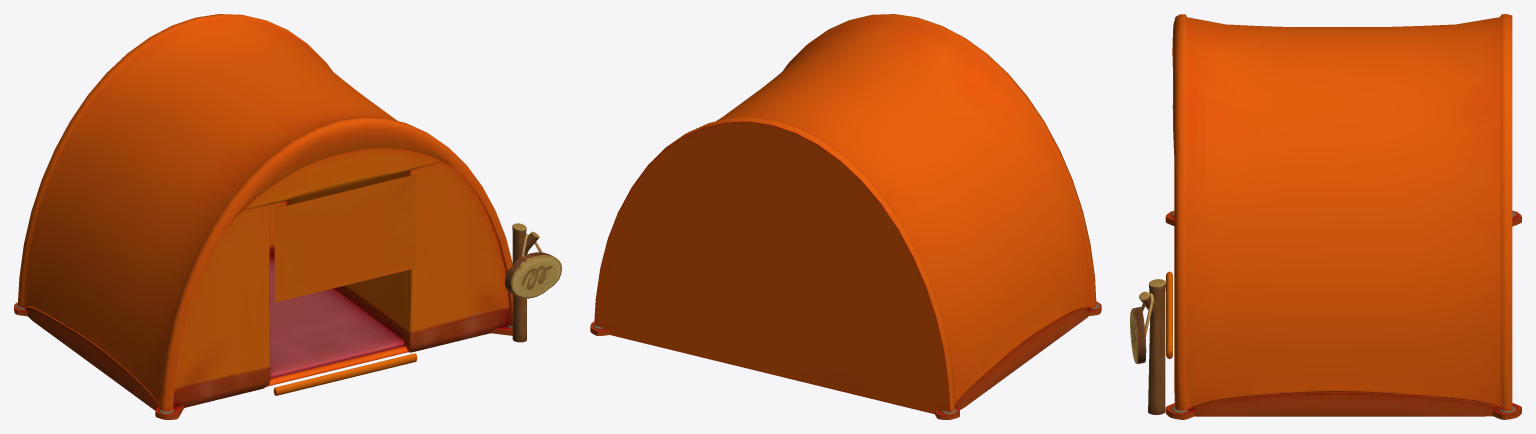
The model's file is tent-n.glb.
3 views of the same model, side by side, from view 1: azimuth 30°, elevation 25°; view 2: azimuth 150°, elevation 25°; view 3: azimuth 270°, elevation 25° (orthographic). The views are drawn at different scales.
Size of the model in its own units: 32.79 by 20.57 by 25.16.
3 materials, 3 textured.
